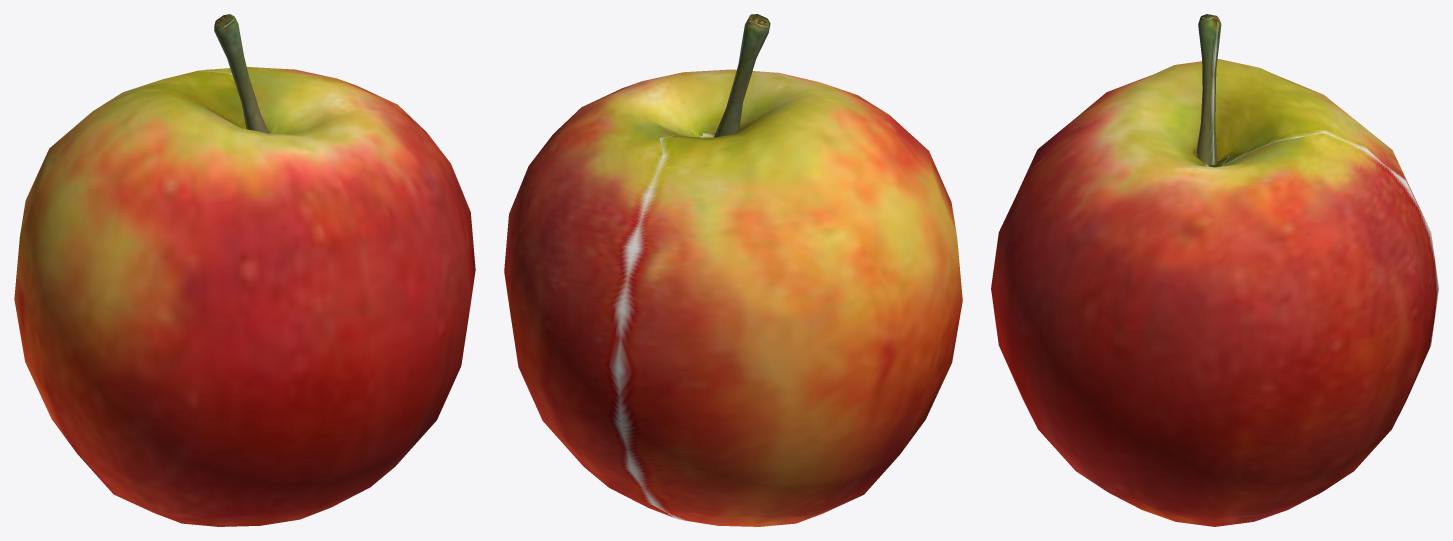
File: apple-lod4.glb
3 renders of one model, left to right at view 1: azimuth 30°, elevation 25°; view 2: azimuth 150°, elevation 25°; view 3: azimuth 270°, elevation 25°, orthographic. The views are drawn at different scales.
Visible parts, largest first — view 1: apple_Sphere; view 2: apple_Sphere; view 3: apple_Sphere.
Boxes of the visible parts, x1,y1,x2,y2 form: apple_Sphere: (14, 14, 475, 526); apple_Sphere: (504, 14, 962, 526); apple_Sphere: (991, 14, 1438, 526).
Size of the model in its own units: 0.1142 by 0.1301 by 0.1138.
1 material, 1 textured.
